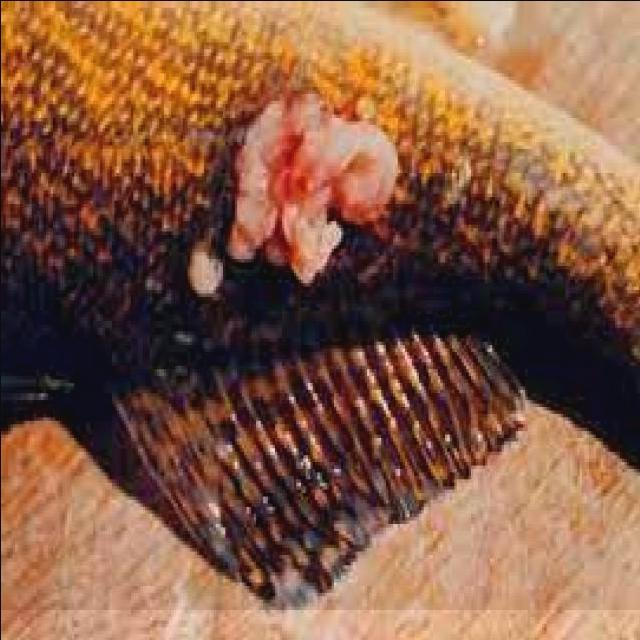EUS Disease: (0, 0, 640, 609), (137, 47, 438, 347)
